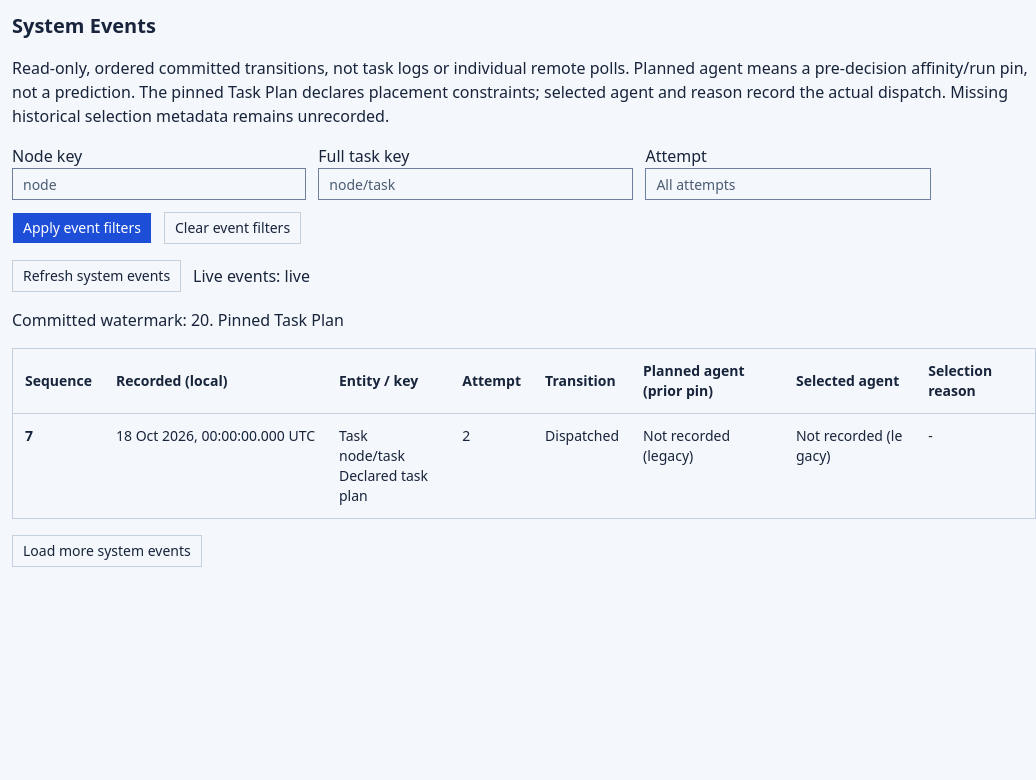
Test: read-only system events › paginates in order and renders explicit legacy unknowns and remote transitions, not polls
Expected: the table shows "Not recorded (legacy)", [643,426,730,465]
Click the button "Load more system events".
click(107, 551)  # box [12,535,202,567]
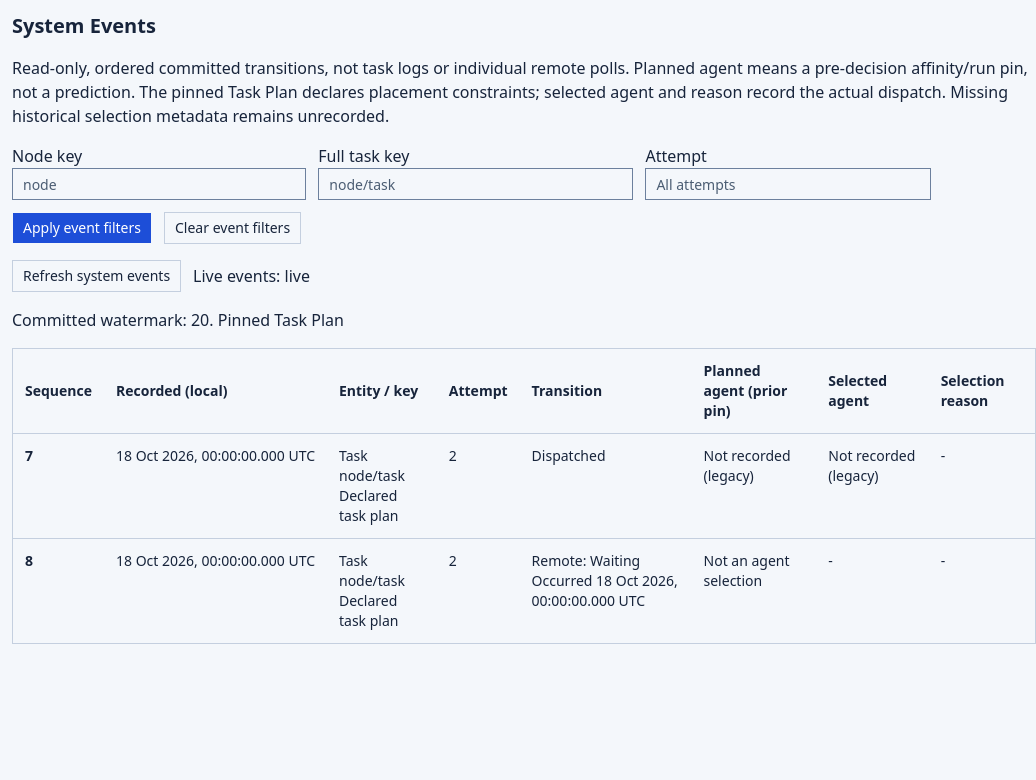
Now the text "Remote: Waiting" is shown, box [532,551,640,570]
Now the button "Load more system events" is gone
